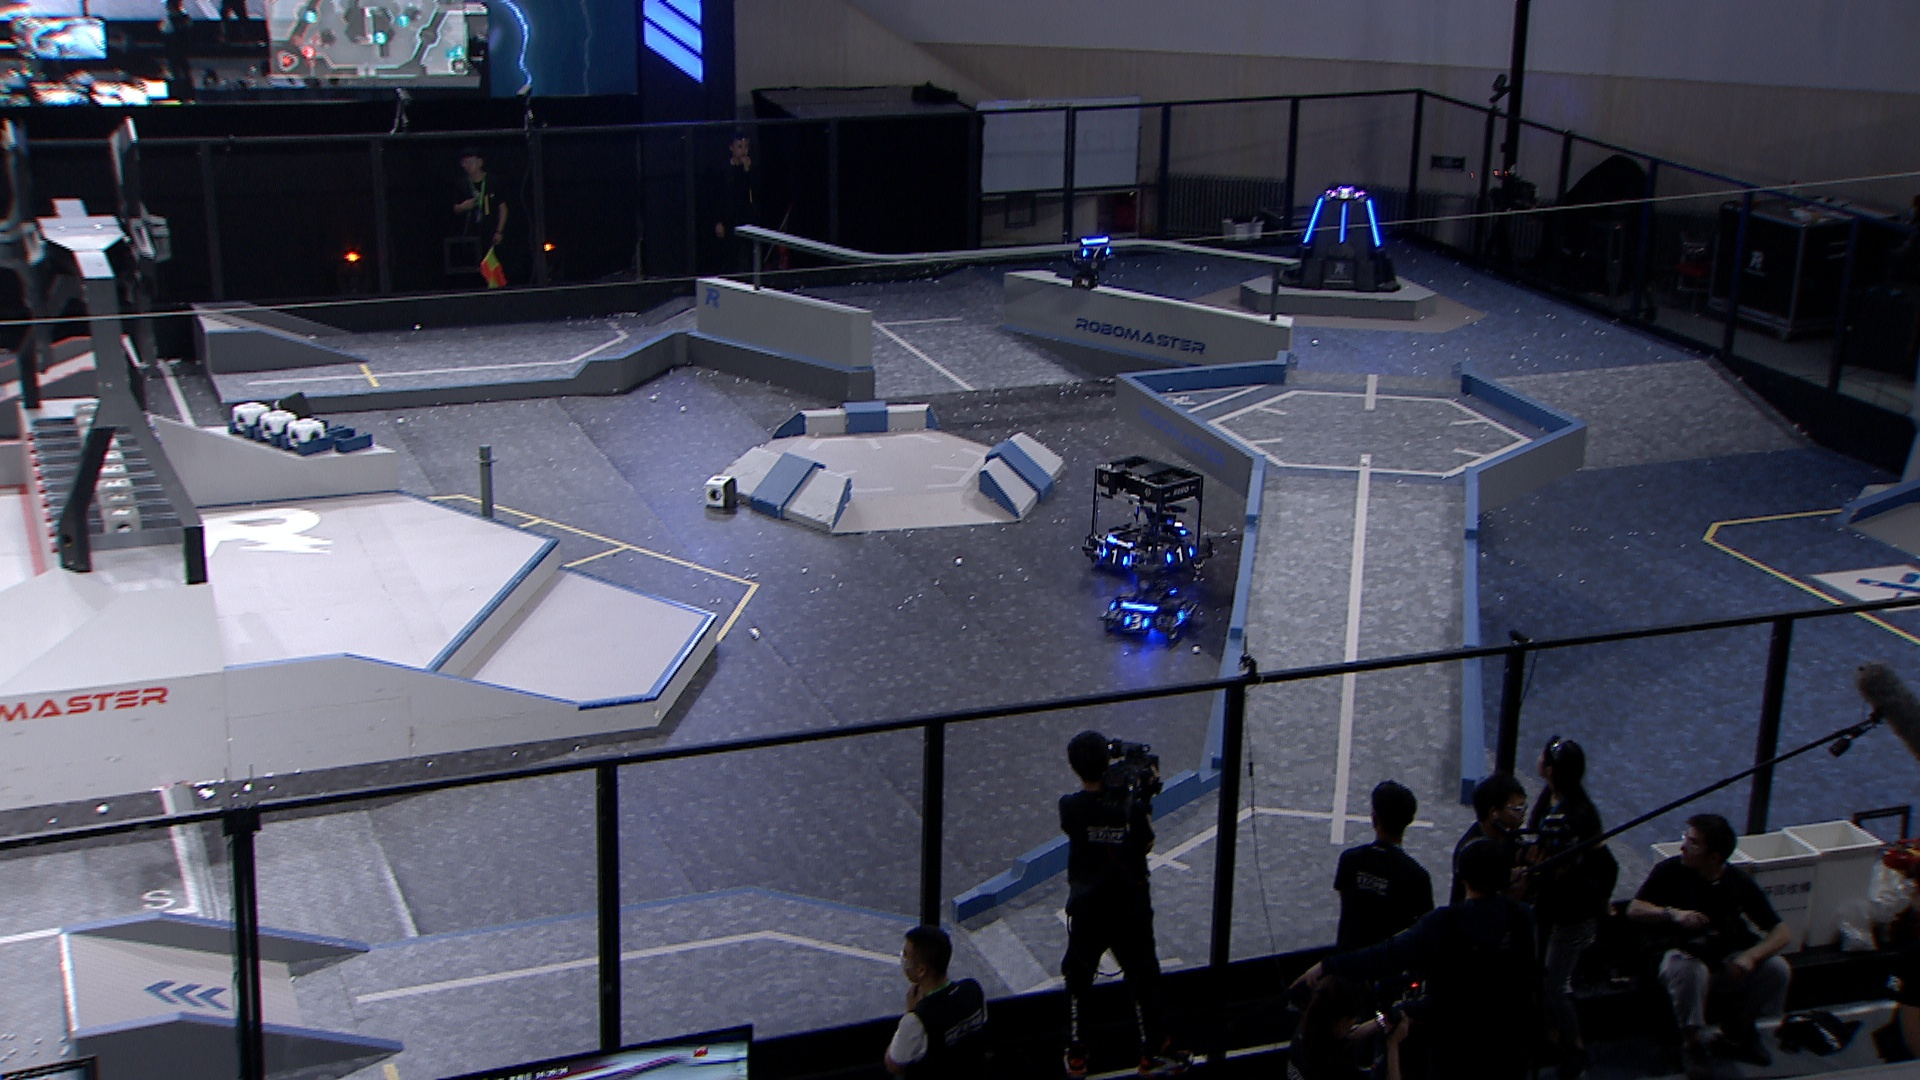armor: (1300, 195, 1325, 245), (1362, 196, 1385, 249), (1162, 545, 1197, 564), (1120, 611, 1153, 632), (1098, 543, 1127, 567), (1337, 200, 1352, 245), (1079, 245, 1114, 261), (1176, 603, 1191, 621)
base: (1275, 183, 1404, 294)
car: (1079, 454, 1215, 580), (1097, 562, 1204, 647)
ignore: (1328, 187, 1364, 200)
watcher: (1058, 225, 1116, 289)
